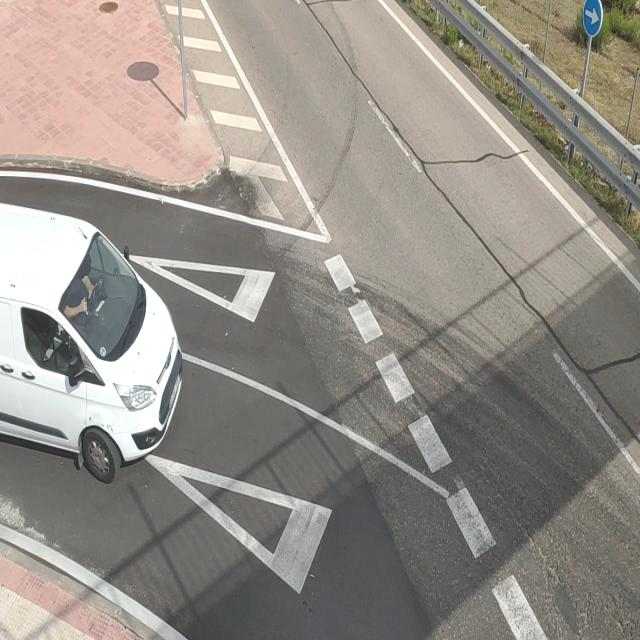Truck: (0, 197, 187, 483)
